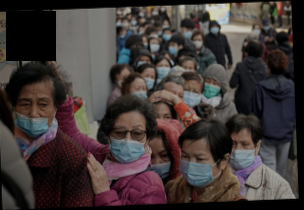mask_weared_incorrect: (15, 94, 56, 138)
with_mask: (108, 122, 148, 163), (180, 145, 218, 187), (228, 136, 256, 168), (148, 146, 171, 179), (181, 83, 202, 108), (200, 76, 222, 98), (154, 61, 172, 79), (141, 72, 156, 90), (167, 41, 179, 55), (192, 36, 204, 49), (148, 40, 160, 52), (182, 28, 193, 38), (209, 25, 221, 34), (163, 31, 173, 41), (263, 24, 271, 31)
